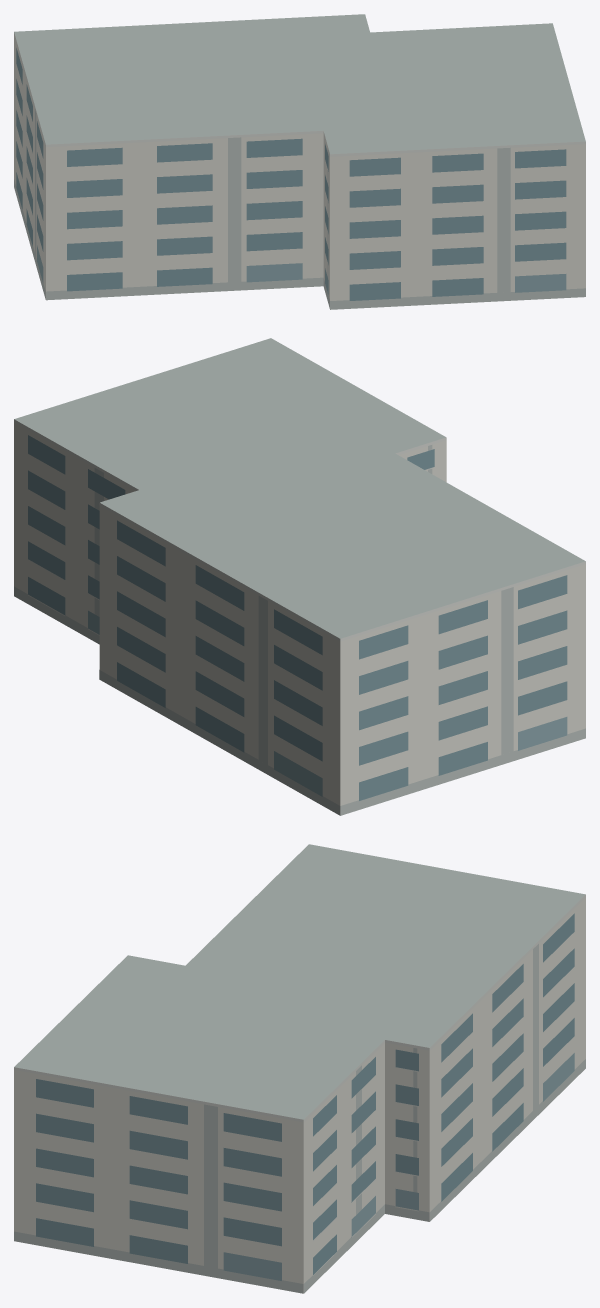
File: residential-780fb91b-9b6a-464c-b88f-150ed854e99a.glb
The picture shows the model from 3 angles, top to bottom: view 1: azimuth 30°, elevation 25°; view 2: azimuth 150°, elevation 25°; view 3: azimuth 270°, elevation 25°; orthographic projection. The views are drawn at different scales.
Parts seen in each view (by area): view 1: residential-780fb91b-9b6a-464c-b88f-150ed854e99a.tmp; view 2: residential-780fb91b-9b6a-464c-b88f-150ed854e99a.tmp; view 3: residential-780fb91b-9b6a-464c-b88f-150ed854e99a.tmp.
Boxes of the visible parts, x1=… form: residential-780fb91b-9b6a-464c-b88f-150ed854e99a.tmp: x1=14, y1=14, x2=585, y2=309; residential-780fb91b-9b6a-464c-b88f-150ed854e99a.tmp: x1=14, y1=338, x2=585, y2=815; residential-780fb91b-9b6a-464c-b88f-150ed854e99a.tmp: x1=14, y1=844, x2=585, y2=1293.
Size of the model in its own units: 51.8 by 15.25 by 45.43.
